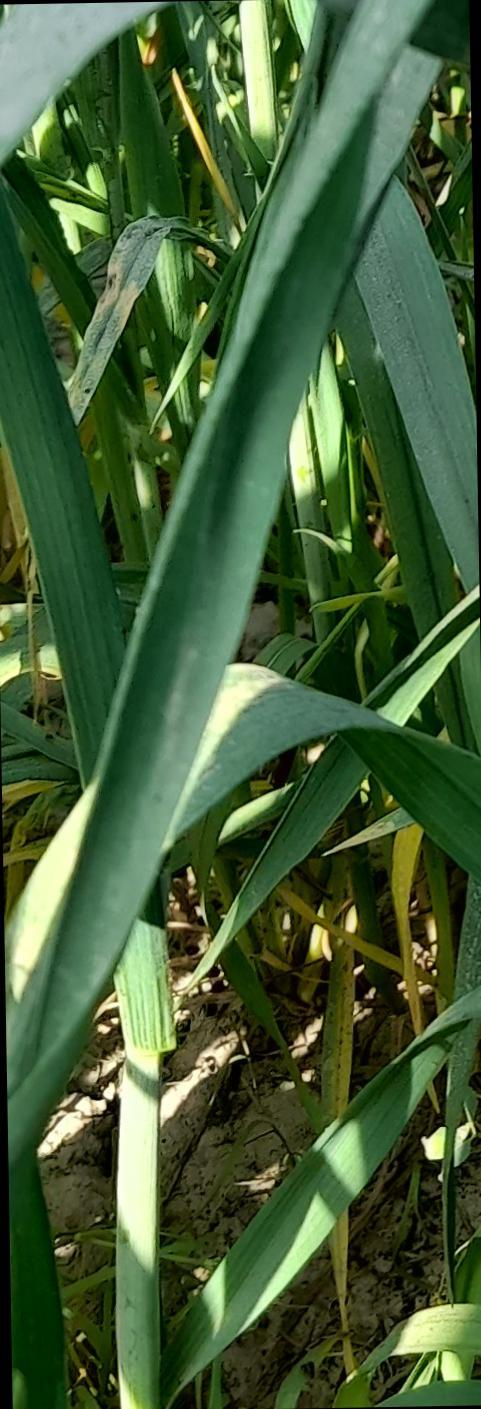Wheat: (31, 170, 397, 1003)
